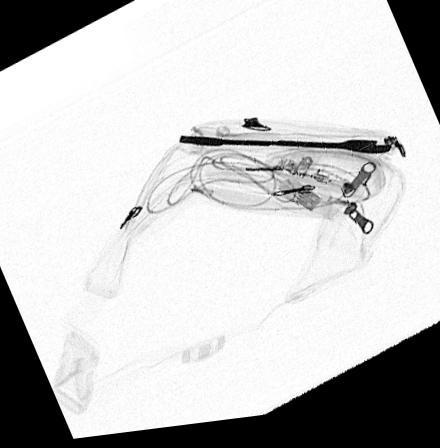Wrench: (181, 141, 392, 164)
